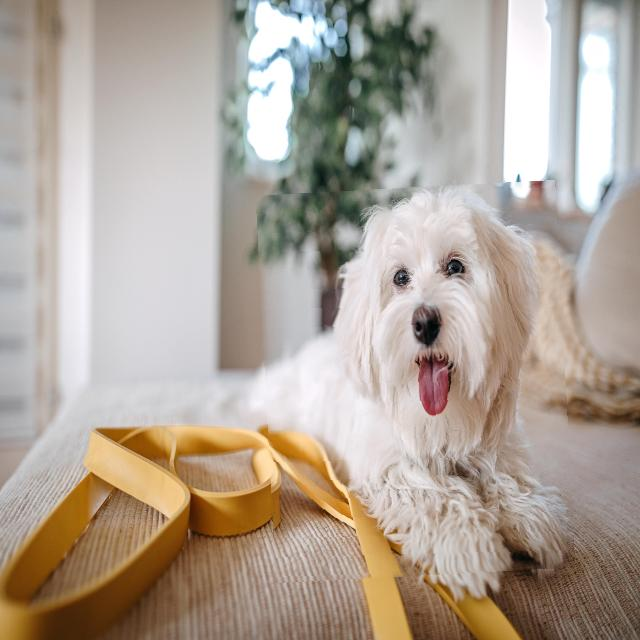maltese: (261, 185, 570, 580)
